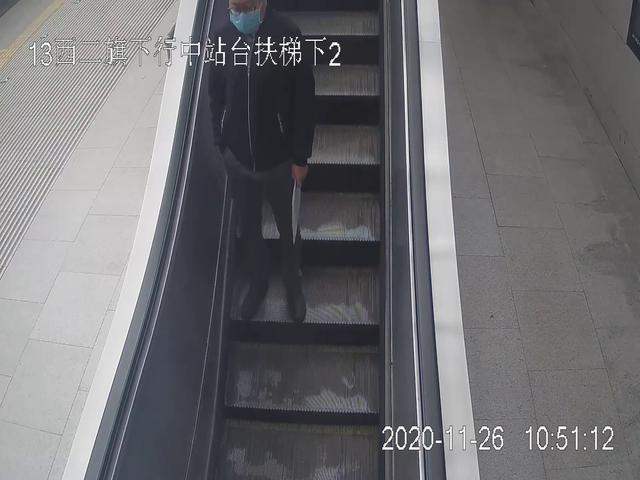person: (207, 1, 315, 325)
